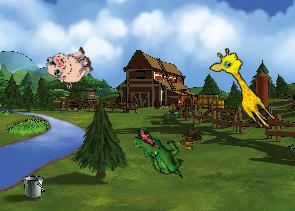crocodile: (125, 126, 193, 180)
giraffe: (205, 44, 286, 132)
pig: (42, 39, 97, 92)
